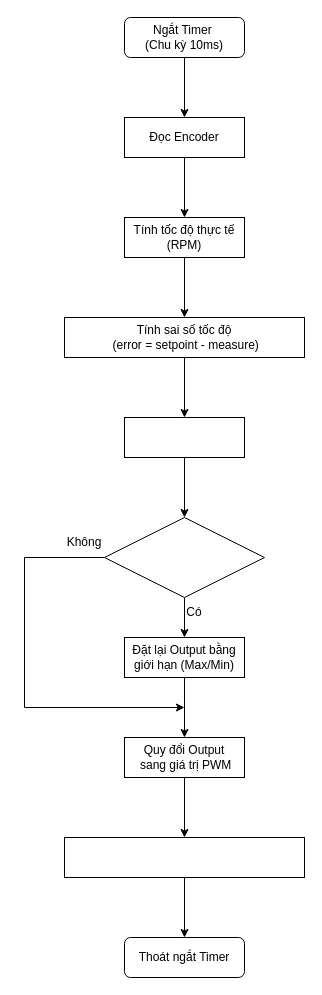
The diagram is 322 pixels wide and 995 high, and some of its shapes have lost their labels. Here are the shapes that lost their labels. From the top down, the centre of each, then its label:
the point at 184,437: Tính toán thuật toán PID
the point at 184,557: Output có vượt giới hạn không?
the point at 184,857: Cập nhật chiều quay và độ rộng xung để điều khiển động cơ
